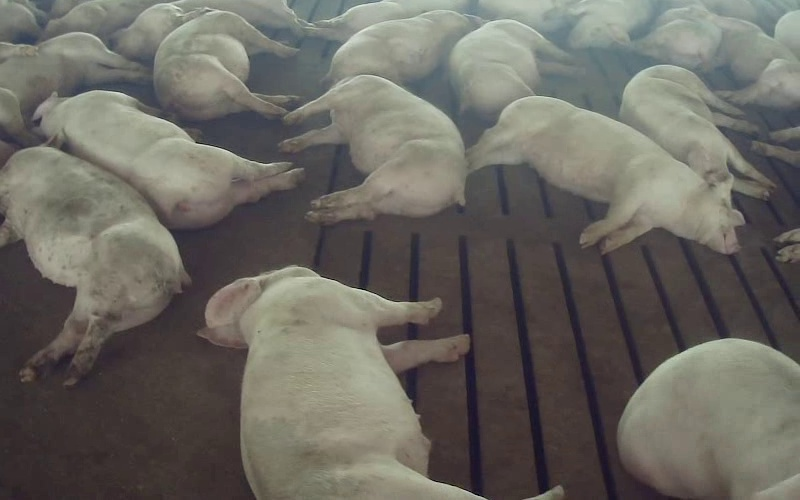pig: (0, 147, 189, 385), (467, 96, 743, 253), (33, 90, 304, 228), (280, 75, 466, 224), (0, 32, 151, 146), (154, 11, 297, 119), (449, 19, 582, 118), (111, 0, 306, 62), (326, 10, 479, 84), (712, 16, 799, 109), (306, 0, 469, 42), (633, 0, 721, 70), (568, 0, 654, 48)
